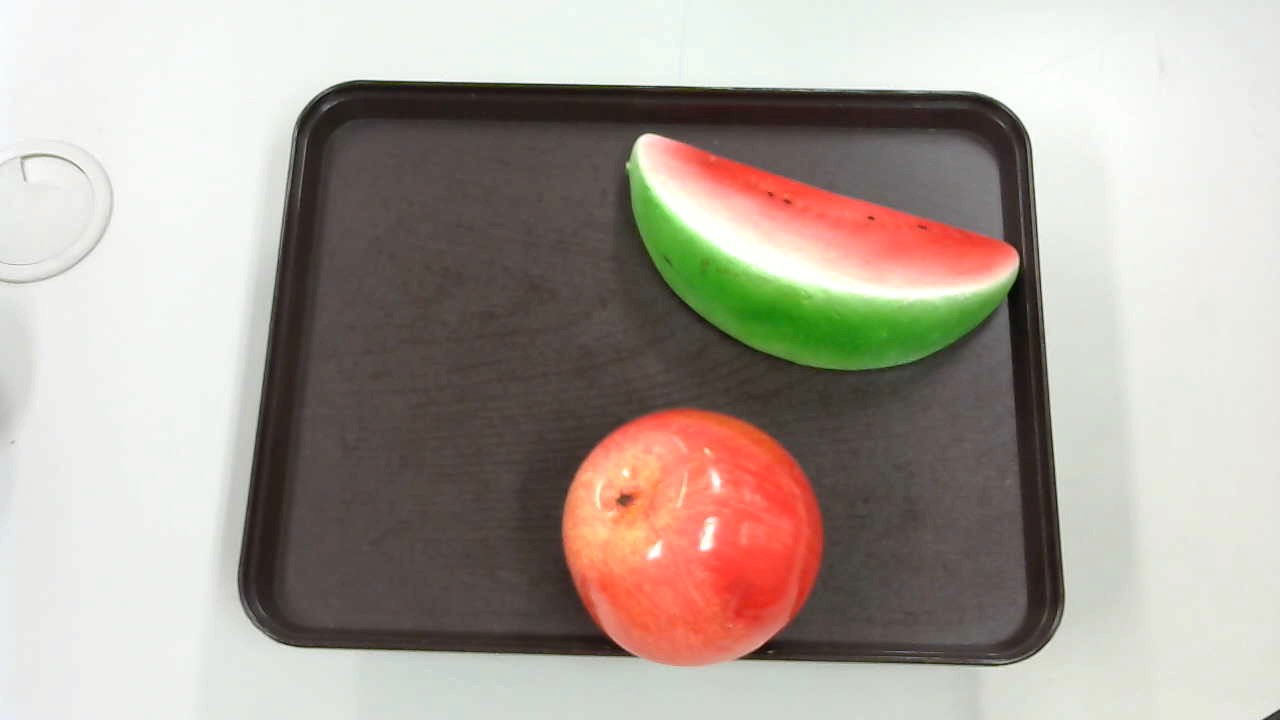red apple: (557, 407, 830, 668)
water melon: (621, 130, 1026, 380)
